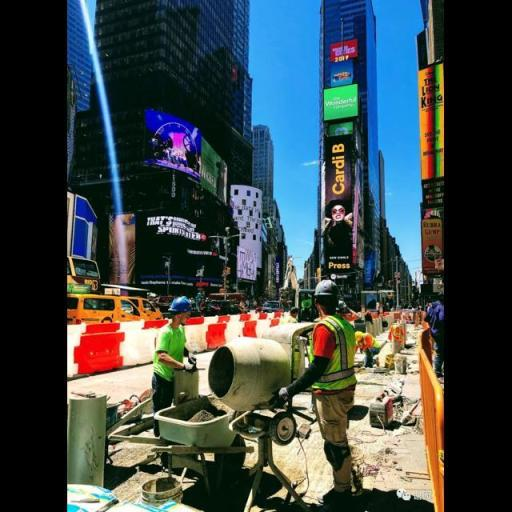helmet: (168, 289, 198, 313), (310, 280, 344, 301)
vest: (306, 318, 360, 398), (151, 323, 186, 381)
